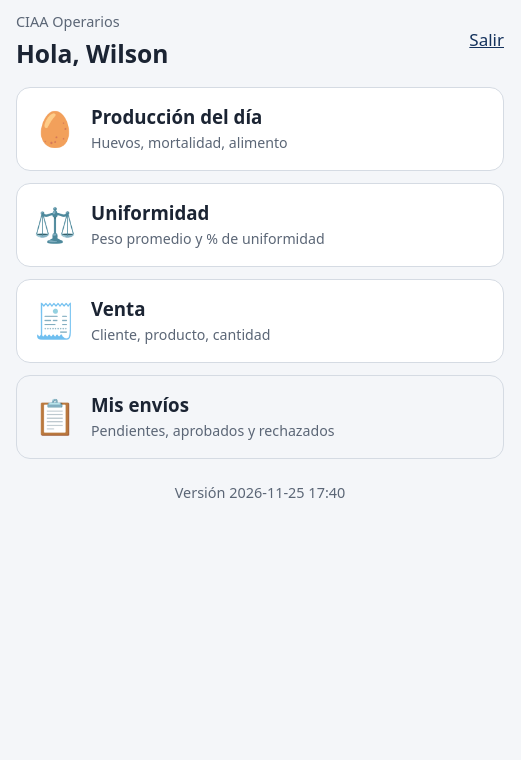
it: envía el peso promedio y la uniformidad de la aplicación de pesaje
The image size is (521, 760).
Click the button "Uniformidad" at (55, 224), box left=16, top=183, right=504, bottom=267
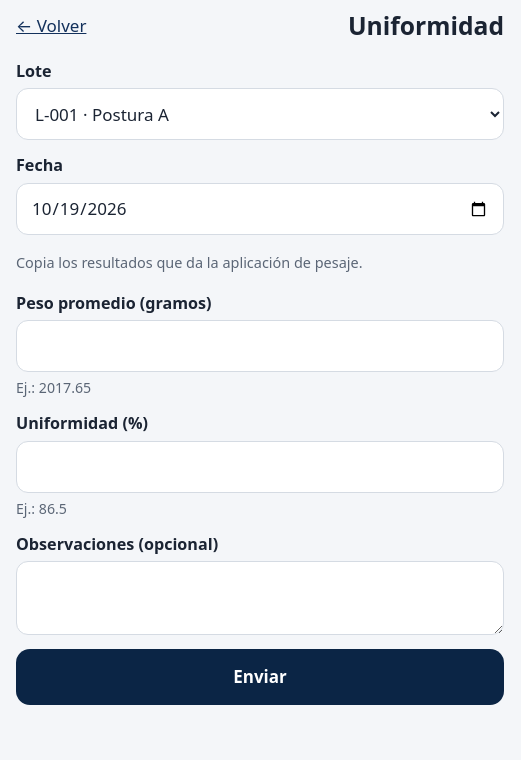
Type "2017.65" into the field labelled "Peso promedio (gramos)" at (260, 346), box left=16, top=320, right=504, bottom=372
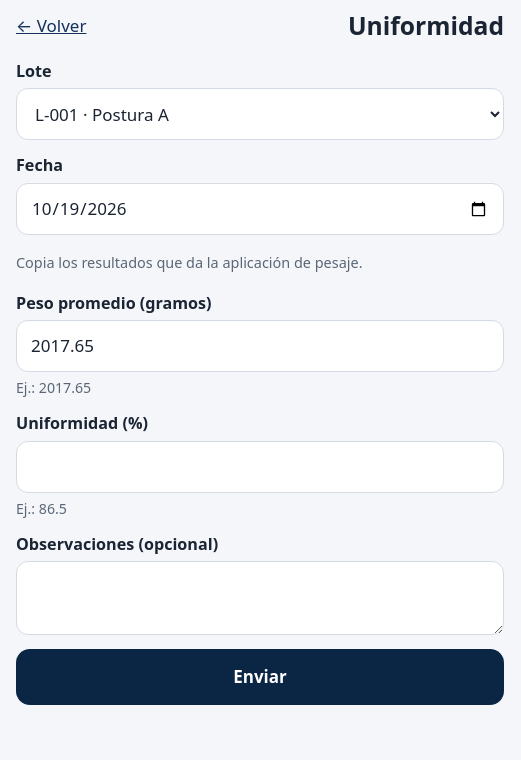
Click the button "Enviar" at (260, 677), box left=16, top=649, right=504, bottom=705
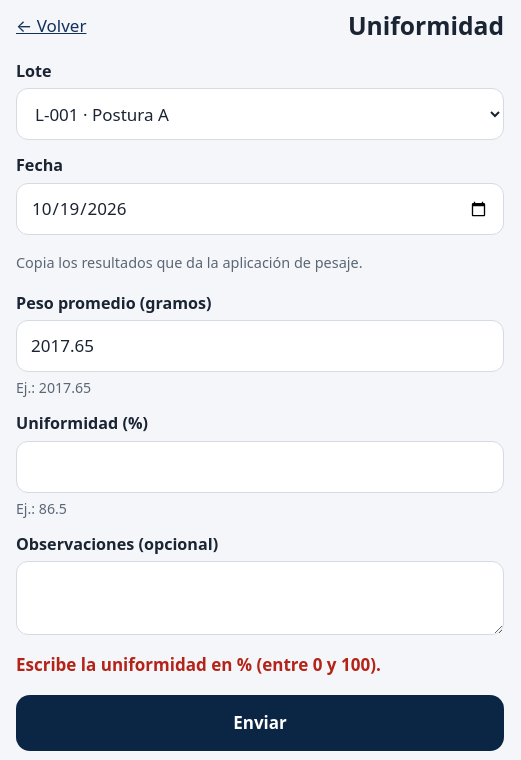
Now the text "Escribe la uniformidad en % (entre 0 y 100)." is shown, box left=16, top=653, right=381, bottom=676
Type "86,5" into the field labelled "Uniformidad (%)" at (260, 467), box left=16, top=441, right=504, bottom=493
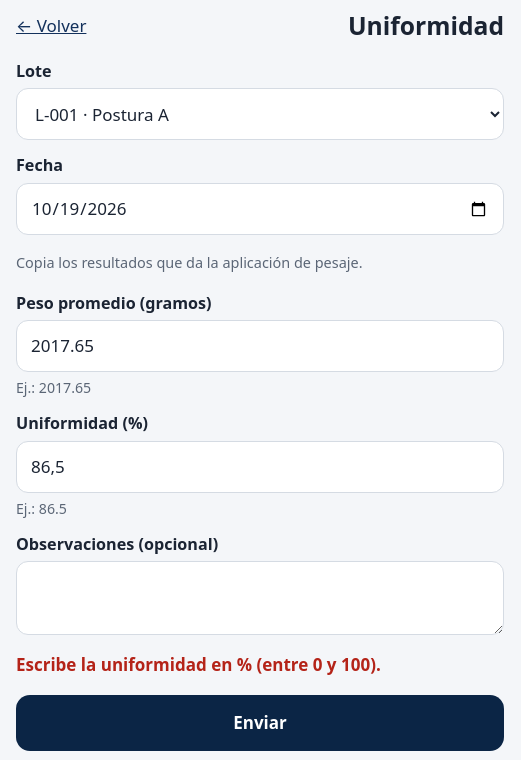
Click the button "Enviar" at (260, 723), box left=16, top=695, right=504, bottom=751
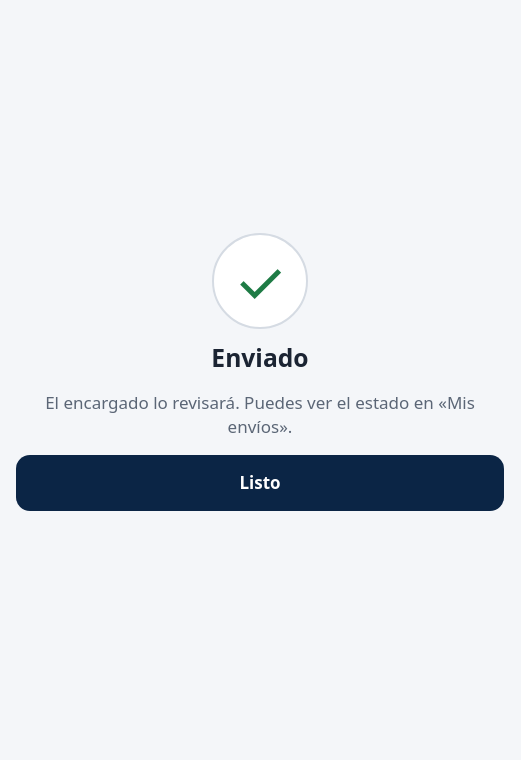
Now the heading "Enviado" is shown, box left=211, top=341, right=309, bottom=375
